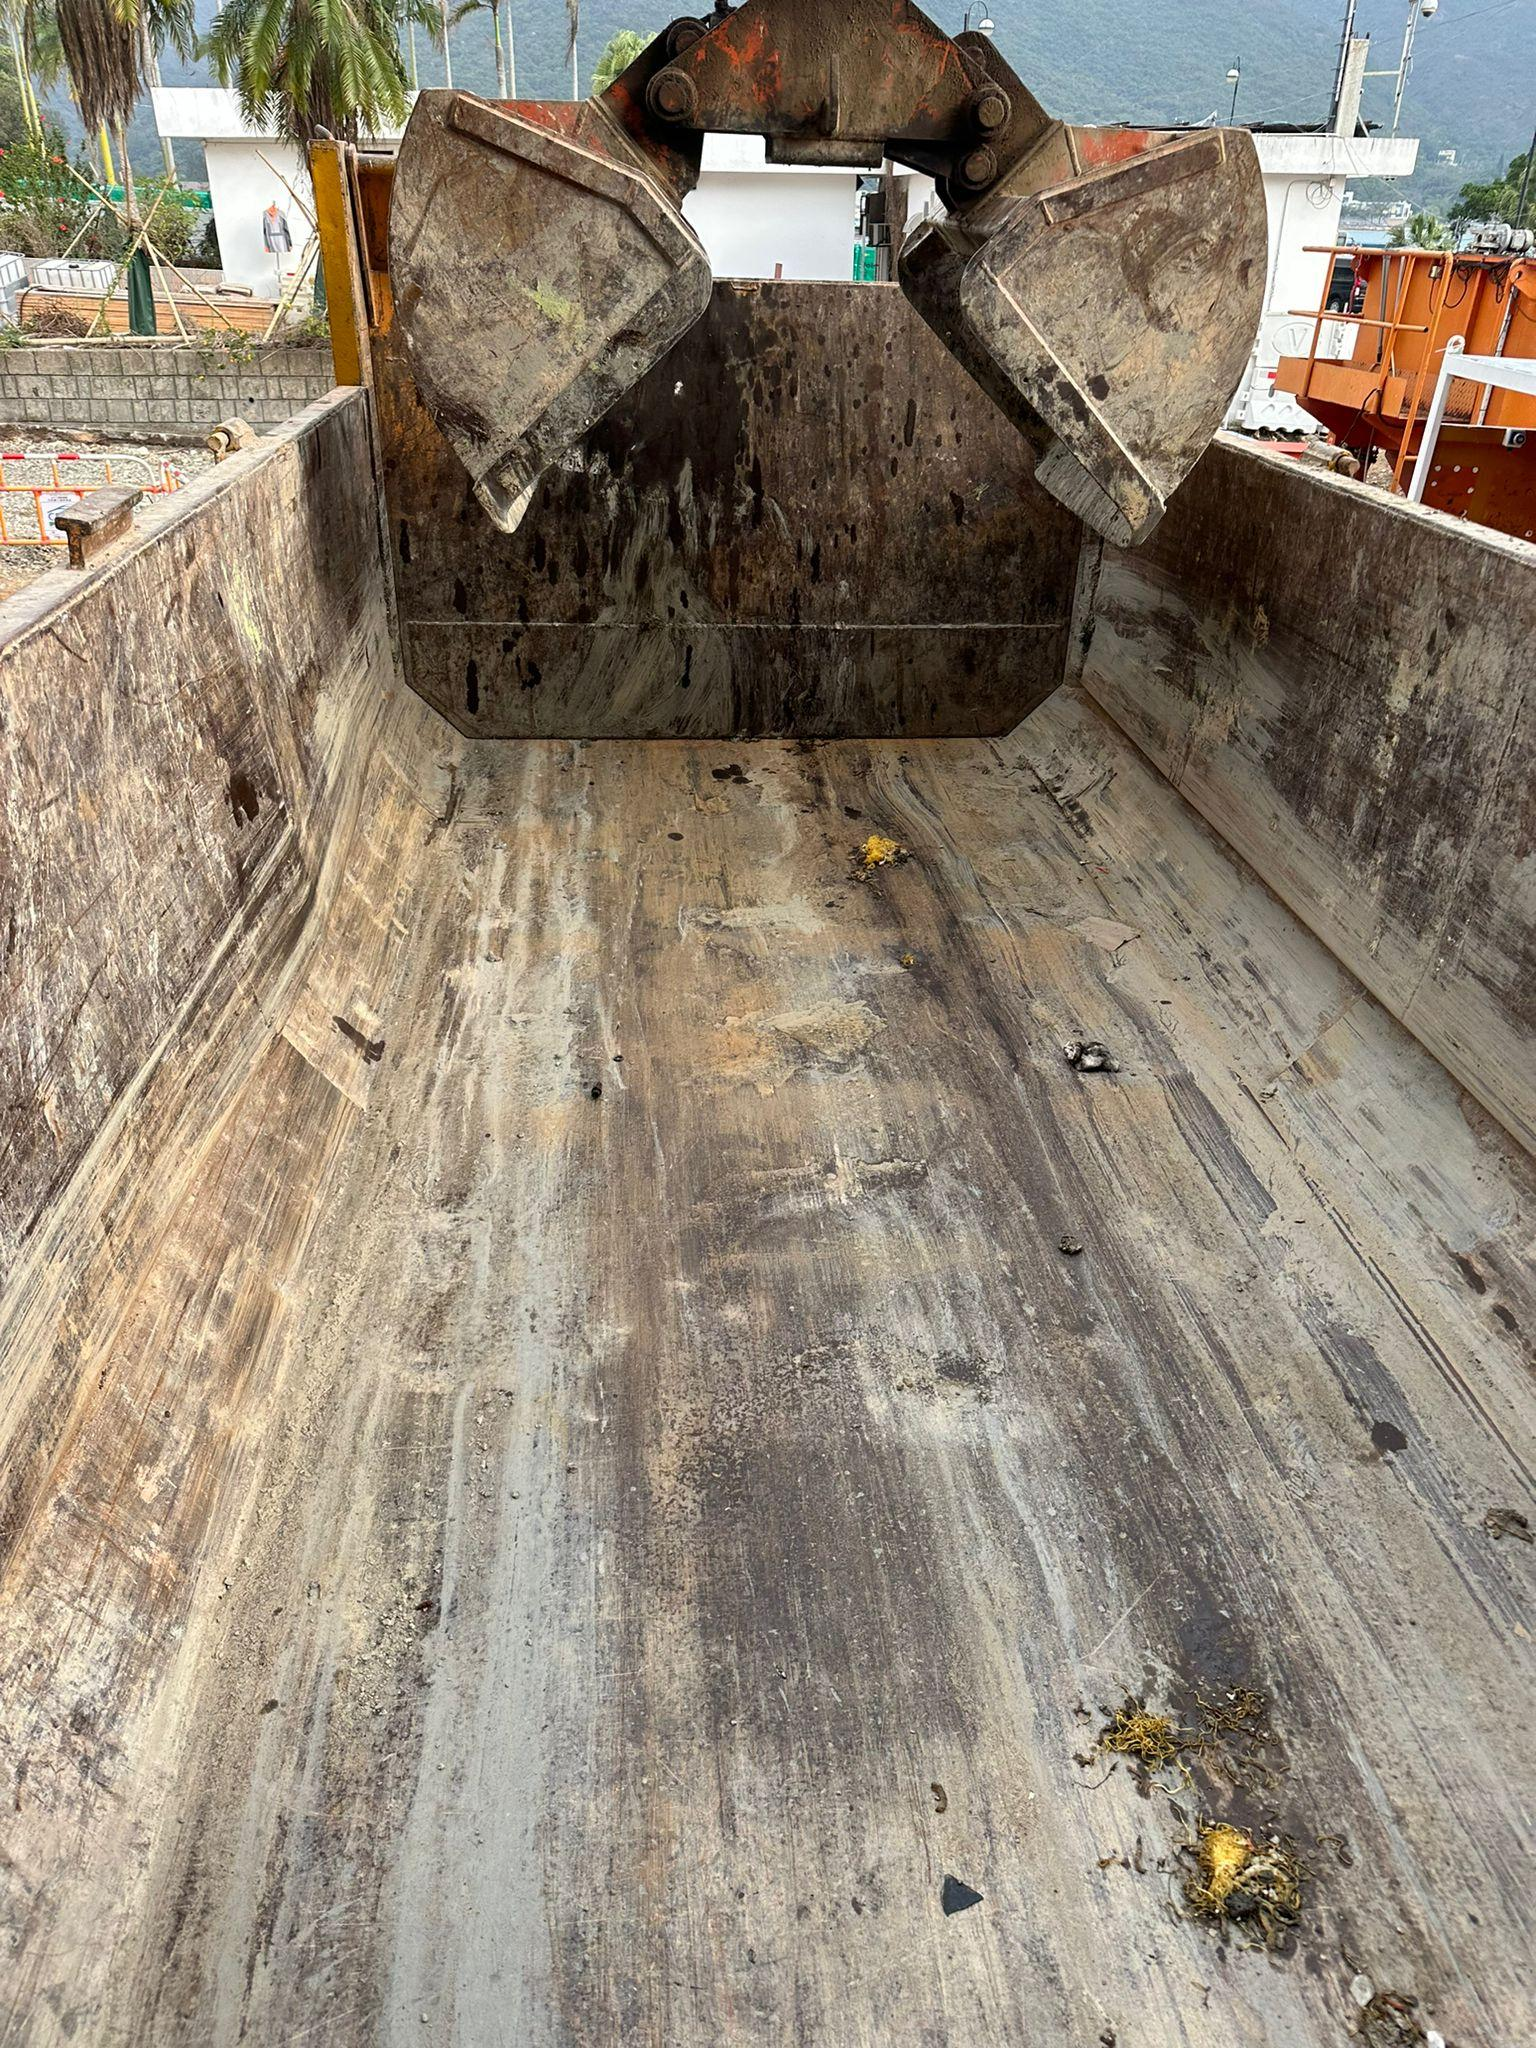nothing: (167, 740, 1536, 2048)
